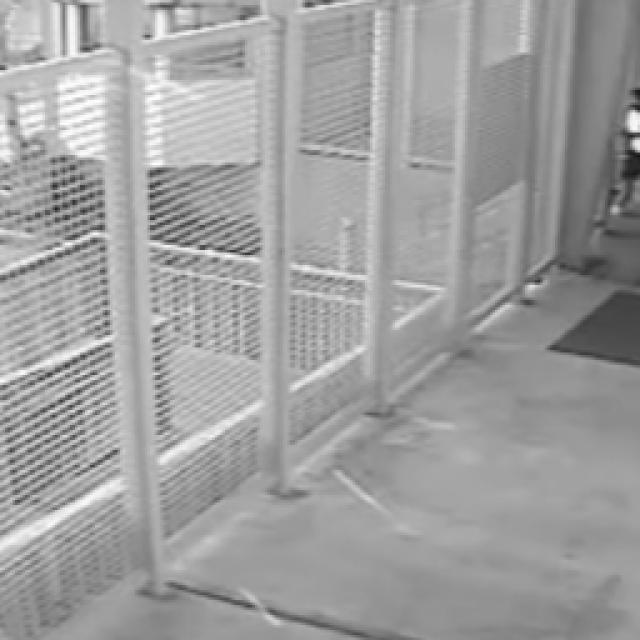Invader: (618, 84, 640, 195)
